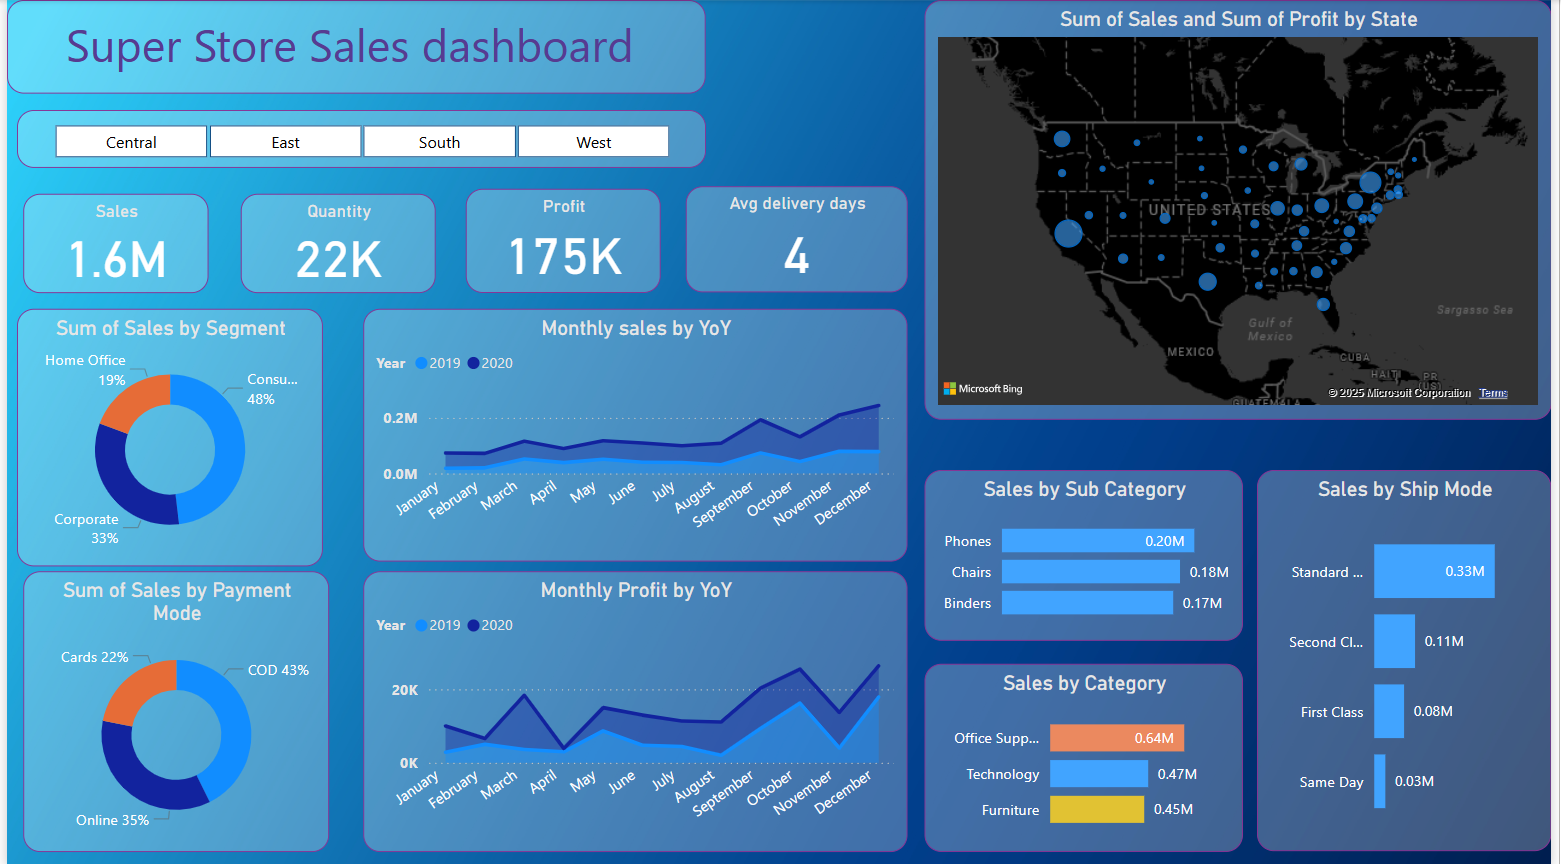

What the dashboard file says about the page in this screenshot:
{"tool":"powerbi","page":{"name":"Page 1","canvas":[1280,720],"ordinal":0},"visuals":[{"type":"clusteredBarChart","title":"Sales by Category","fields":{"Category":["SuperStore_Sales_Dataset.Category"],"Y":["Sum(SuperStore_Sales_Dataset.Sales)"]},"box":[760.5,550,264,155.8],"z":0},{"type":"clusteredBarChart","title":"Sales by Sub Category","fields":{"Category":["SuperStore_Sales_Dataset.Sub-Category","SuperStore_Sales_Dataset.Category"],"Y":["Sum(SuperStore_Sales_Dataset.Sales)"]},"box":[760.5,389.5,264,141.9],"z":1000},{"type":"clusteredBarChart","title":"Sales by Ship Mode","fields":{"Category":["SuperStore_Sales_Dataset.Ship Mode"],"Y":["Sum(SuperStore_Sales_Dataset.Sales)"]},"box":[1036,389.5,244.2,316.3],"z":2000},{"type":"stackedAreaChart","title":"Monthly sales by YoY","fields":{"Y":["Sum(SuperStore_Sales_Dataset.Sales)"],"Category":["SuperStore_Sales_Dataset.Order Date.Variation.Date Hierarchy.Month","SuperStore_Sales_Dataset.Order Date.Variation.Date Hierarchy.Day"],"Series":["SuperStore_Sales_Dataset.Order Date.Variation.Date Hierarchy.Year"]},"box":[295.3,255.8,451.2,209.3],"z":3000},{"type":"stackedAreaChart","title":"Monthly Profit by YoY","fields":{"Category":["SuperStore_Sales_Dataset.Order Date.Variation.Date Hierarchy.Month","SuperStore_Sales_Dataset.Order Date.Variation.Date Hierarchy.Day"],"Series":["SuperStore_Sales_Dataset.Order Date.Variation.Date Hierarchy.Year"],"Y":["Sum(SuperStore_Sales_Dataset.Profit)"]},"box":[295.3,473.3,451.2,232.6],"z":4000},{"type":"map","fields":{"Category":["SuperStore_Sales_Dataset.State"],"Size":["Sum(SuperStore_Sales_Dataset.Sales)"]},"box":[760.5,0,519.8,347.7],"z":5000},{"type":"donutChart","fields":{"Category":["SuperStore_Sales_Dataset.Segment"],"Y":["Sum(SuperStore_Sales_Dataset.Sales)"]},"box":[8.1,255.8,253.5,214],"z":6000},{"type":"donutChart","fields":{"Y":["Sum(SuperStore_Sales_Dataset.Sales)"],"Category":["SuperStore_Sales_Dataset.Payment Mode"]},"box":[14,473.3,253.5,232.6],"z":7000},{"type":"slicer","fields":{"Values":["SuperStore_Sales_Dataset.Region"]},"box":[8.1,90.7,570.9,47.7],"z":8000},{"type":"textbox","box":[0,0,579.1,77.9],"z":9000},{"type":"card","title":"Sales","fields":{"Values":["Sum(SuperStore_Sales_Dataset.Sales)"]},"box":[14,160.5,153.5,82.6],"z":10000},{"type":"card","title":"Quantity","fields":{"Values":["Sum(SuperStore_Sales_Dataset.Quantity)"]},"box":[194.2,160.5,161.6,82.6],"z":11000},{"type":"card","title":"Profit","fields":{"Values":["Sum(SuperStore_Sales_Dataset.Profit)"]},"box":[380.2,157,161.6,86],"z":12000},{"type":"card","title":"Avg delivery days","fields":{"Values":["Avg(SuperStore_Sales_Dataset.AvgDelivery)"]},"box":[562.8,154.7,183.7,88.4],"z":13000}]}

Visuals, with their boxes in screenshot pixels (x1, y1, x2, y2), scaled from the page's 1280x720 canvas onto the 1561x864 screenshot:
"Sales by Category" clusteredBarChart: (x1=927, y1=660, x2=1249, y2=847)
"Sales by Sub Category" clusteredBarChart: (x1=927, y1=467, x2=1249, y2=638)
"Sales by Ship Mode" clusteredBarChart: (x1=1263, y1=467, x2=1560, y2=847)
"Monthly sales by YoY" stackedAreaChart: (x1=360, y1=307, x2=910, y2=558)
"Monthly Profit by YoY" stackedAreaChart: (x1=360, y1=568, x2=910, y2=847)
map - SuperStore_Sales_Dataset.State x Sum(SuperStore_Sales_Dataset.Sales): (x1=927, y1=0, x2=1560, y2=417)
donutChart - SuperStore_Sales_Dataset.Segment x Sum(SuperStore_Sales_Dataset.Sales): (x1=10, y1=307, x2=319, y2=564)
donutChart - Sum(SuperStore_Sales_Dataset.Sales) x SuperStore_Sales_Dataset.Payment Mode: (x1=17, y1=568, x2=326, y2=847)
slicer - SuperStore_Sales_Dataset.Region: (x1=10, y1=109, x2=706, y2=166)
textbox: (x1=0, y1=0, x2=706, y2=93)
"Sales" card: (x1=17, y1=193, x2=204, y2=292)
"Quantity" card: (x1=237, y1=193, x2=434, y2=292)
"Profit" card: (x1=464, y1=188, x2=661, y2=292)
"Avg delivery days" card: (x1=686, y1=186, x2=910, y2=292)
